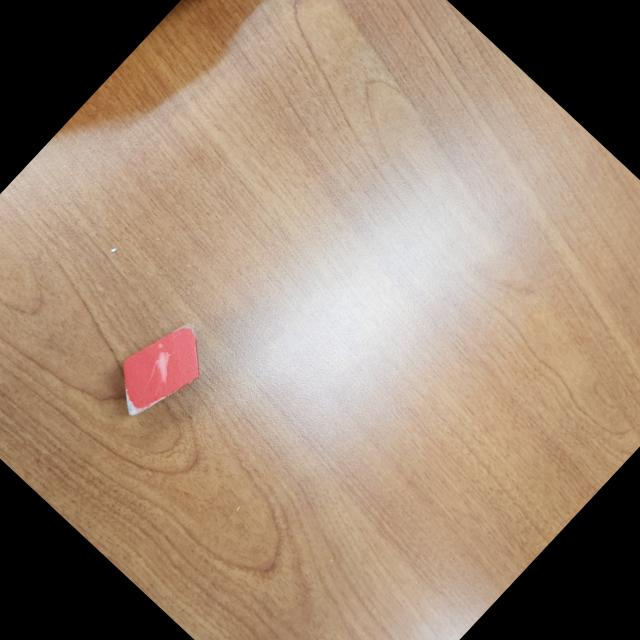broken: (98, 306, 223, 432)
